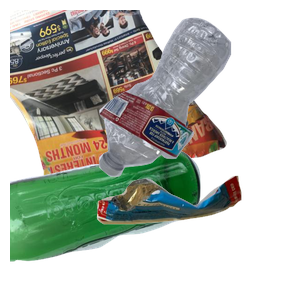glass: (10, 149, 203, 300)
paper: (10, 10, 230, 188)
plastic: (96, 15, 300, 184)
trash: (94, 173, 300, 300)
